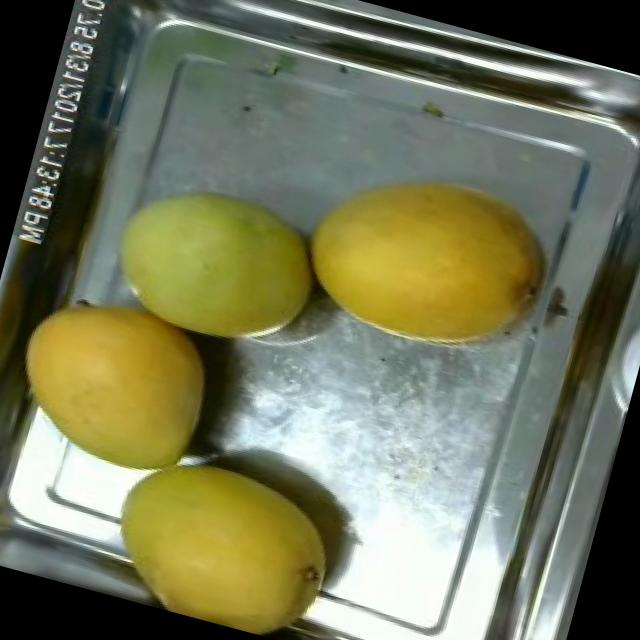fruit: (283, 135, 573, 381), (91, 426, 363, 640), (0, 262, 245, 496), (88, 156, 342, 376)
